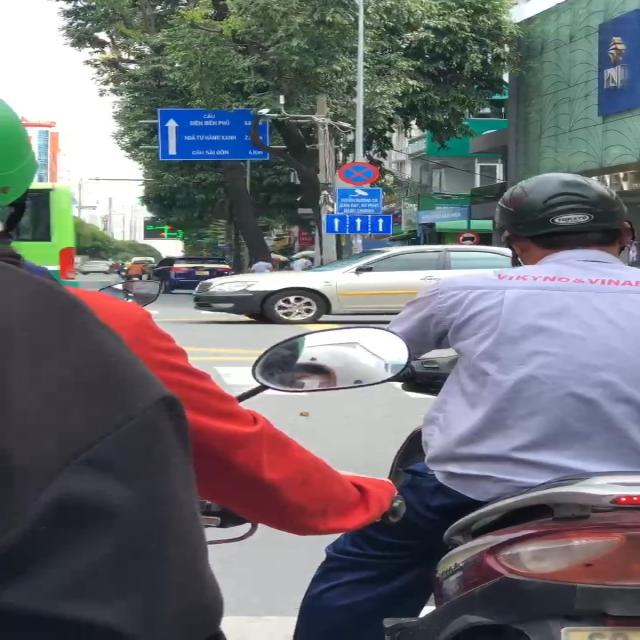Bien bao cam dung xe va do xe: (336, 160, 382, 185)
